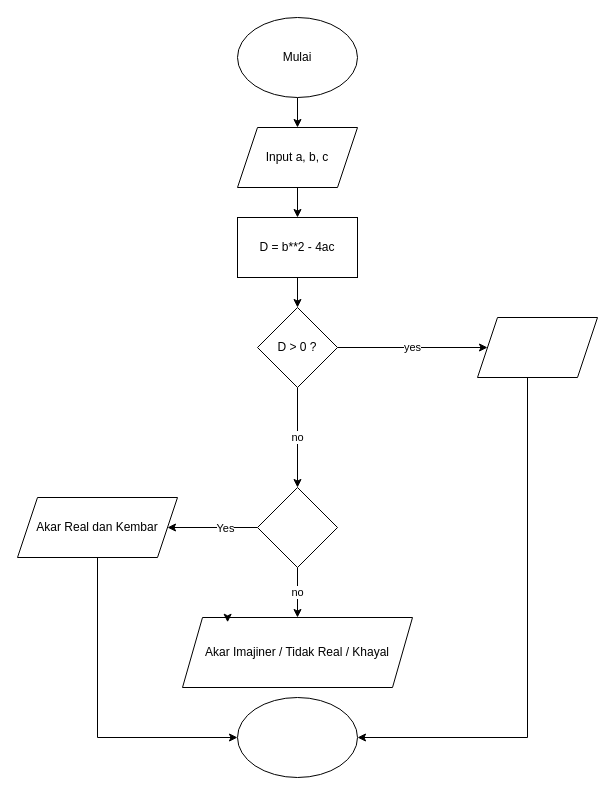
The diagram is 615 pixels wide and 795 high, and some of its shapes have lost their labels. The centre of each missing label's shape, as x and y in pixels:
"Akar Real dan Berlainan" goes at (537,347).
"D = 0 ?" goes at (297,527).
"Selesai" goes at (297,737).
